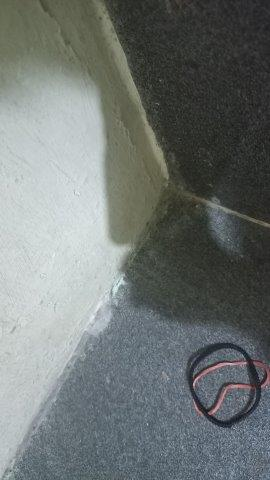karet: (189, 343, 270, 427)
